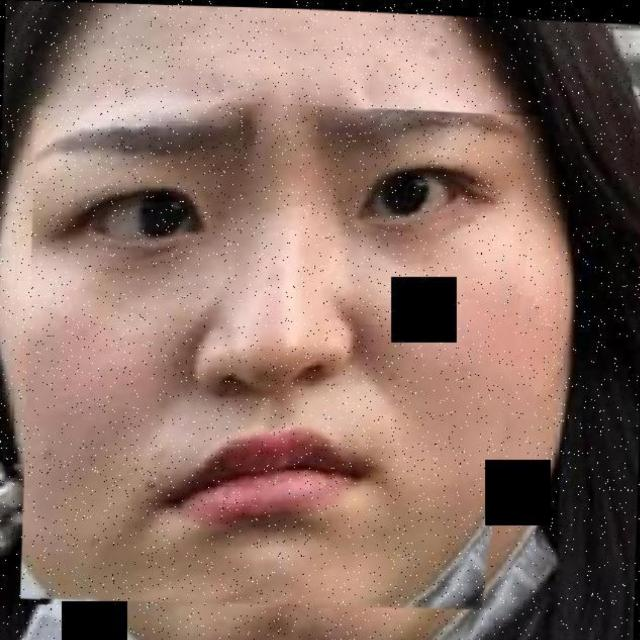Angry: (62, 62, 639, 640)
